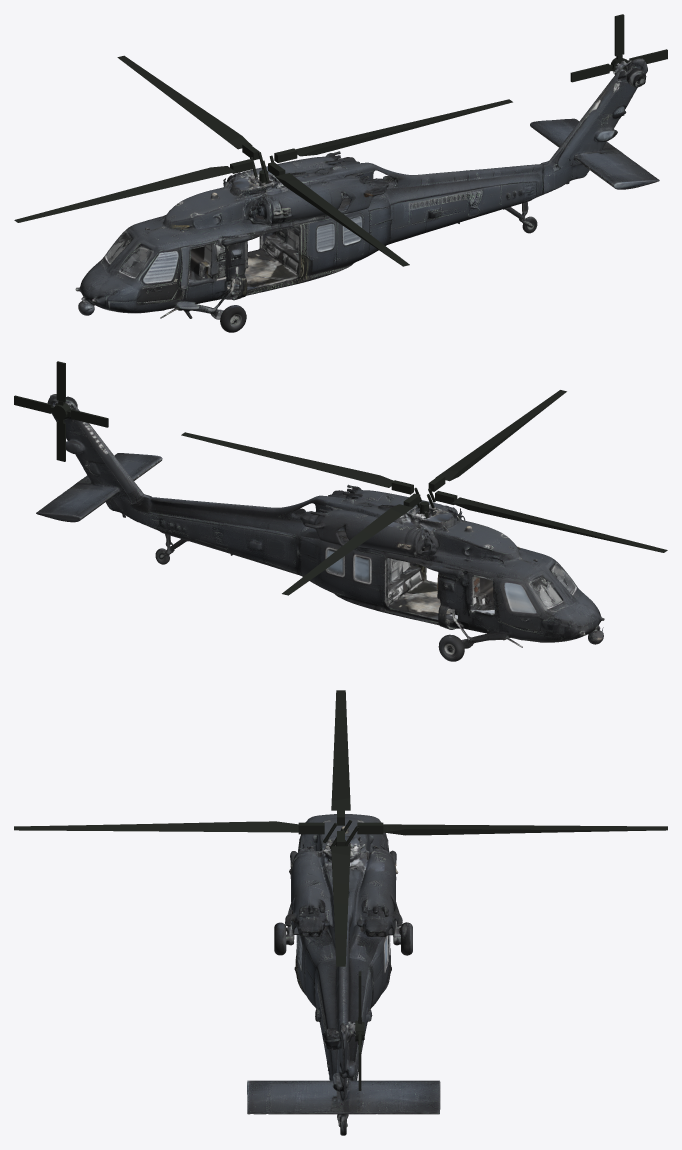
Rendered from Blackhawk-rotors-rigged-Dell1h-R.glb.
3 views of the same model, one above another, from view 1: azimuth 30°, elevation 25°; view 2: azimuth 150°, elevation 25°; view 3: azimuth 270°, elevation 25° (orthographic). The views are drawn at different scales.
Parts seen in each view (by area): view 1: Fuselage, MainRotor, TailRotor; view 2: Fuselage, MainRotor, TailRotor; view 3: Fuselage, MainRotor.
Boxes of the visible parts, left/top/right/bottom form: Fuselage: left=75, top=58, right=659, bottom=332; MainRotor: left=14, top=55, right=512, bottom=266; TailRotor: left=570, top=14, right=667, bottom=115; Fuselage: left=36, top=394, right=604, bottom=661; MainRotor: left=181, top=390, right=667, bottom=595; TailRotor: left=14, top=361, right=108, bottom=461; Fuselage: left=247, top=814, right=440, bottom=1135; MainRotor: left=14, top=690, right=667, bottom=966.
Bounding box in the file's own units: 2.02 × 0.5508 × 1.52.
2 materials, 1 textured.
